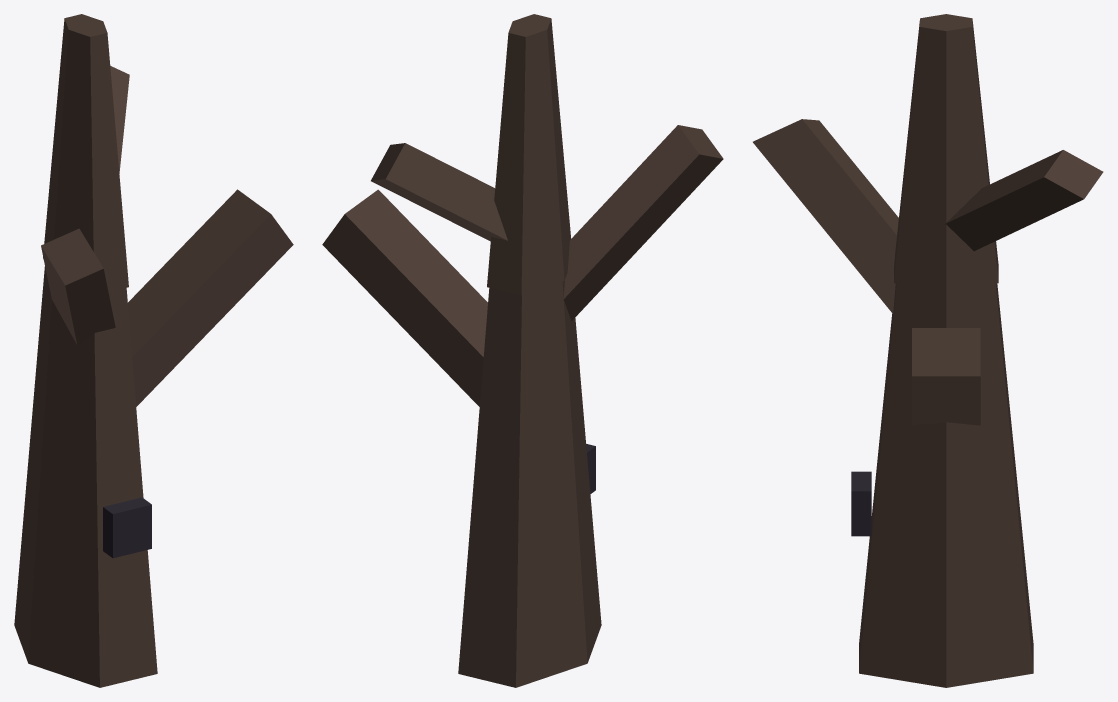
File: env_r4_bare_tree.glb
The picture shows the model from 3 angles, left to right: view 1: azimuth 30°, elevation 25°; view 2: azimuth 150°, elevation 25°; view 3: azimuth 270°, elevation 25°; orthographic projection. The views are drawn at different scales.
Visible parts, largest first — view 1: env_r4_bare_tree; view 2: env_r4_bare_tree; view 3: env_r4_bare_tree.
Part boxes in pixels (box(x1,y1,x2,y2)): env_r4_bare_tree: box(14, 14, 293, 687); env_r4_bare_tree: box(322, 14, 723, 687); env_r4_bare_tree: box(753, 14, 1103, 687).
Size of the model in its own units: 2.4 by 4.8 by 2.4.
Materials: 1 (1 with a texture image).
